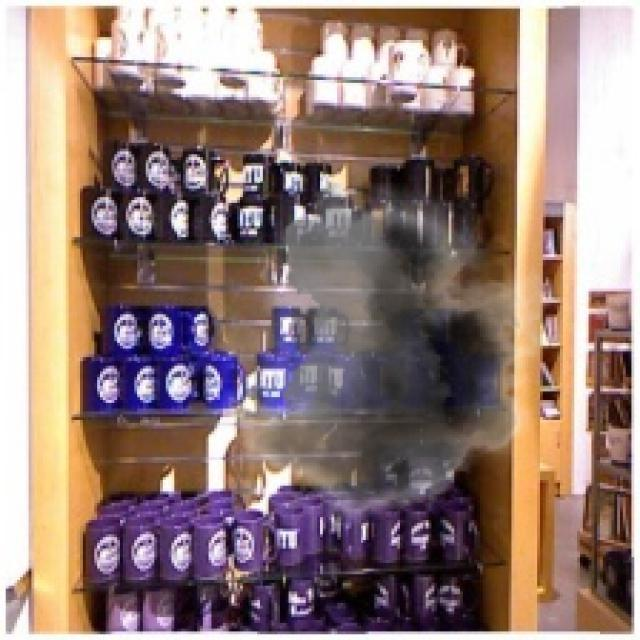Smoke: (180, 183, 569, 540)
